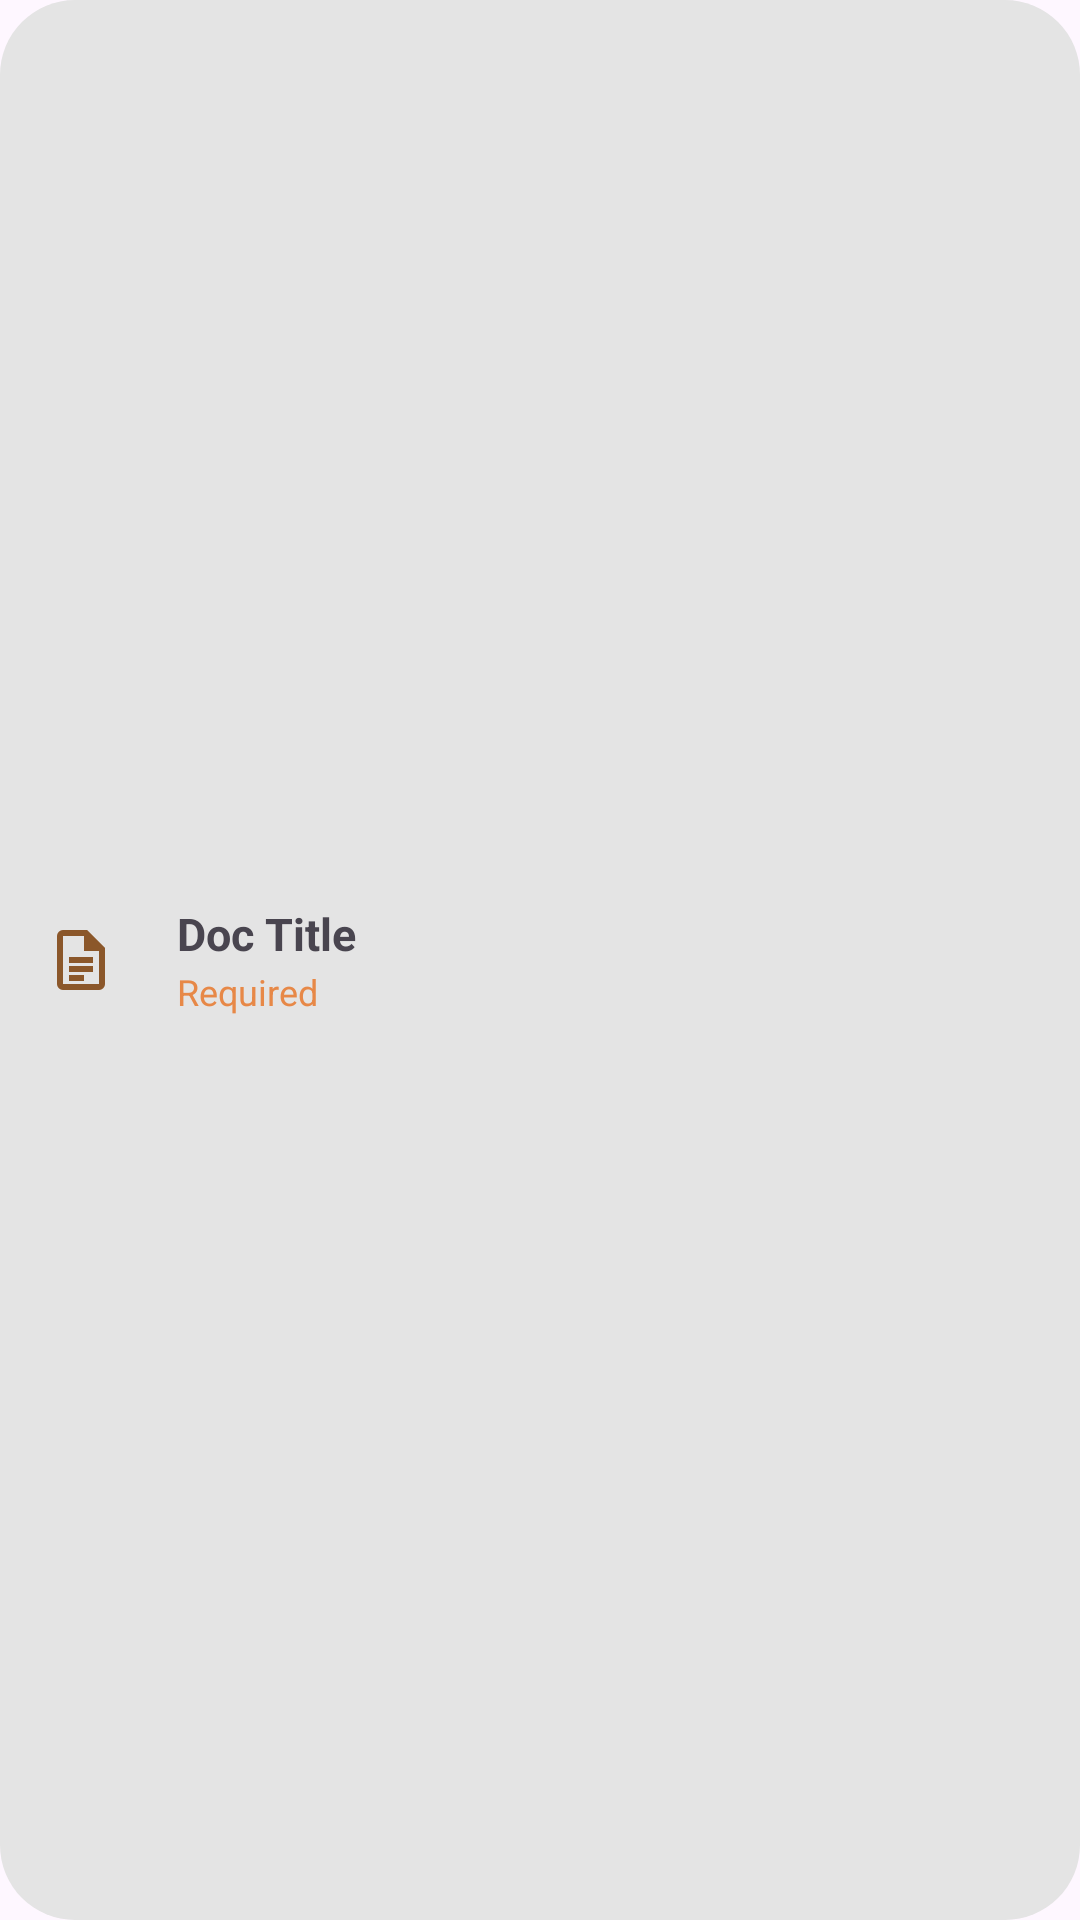

Icon bounding boxes for this 1080×1920 phone screenshot, format (x1, y1, x2, y2):
file: (57, 930, 105, 990)
